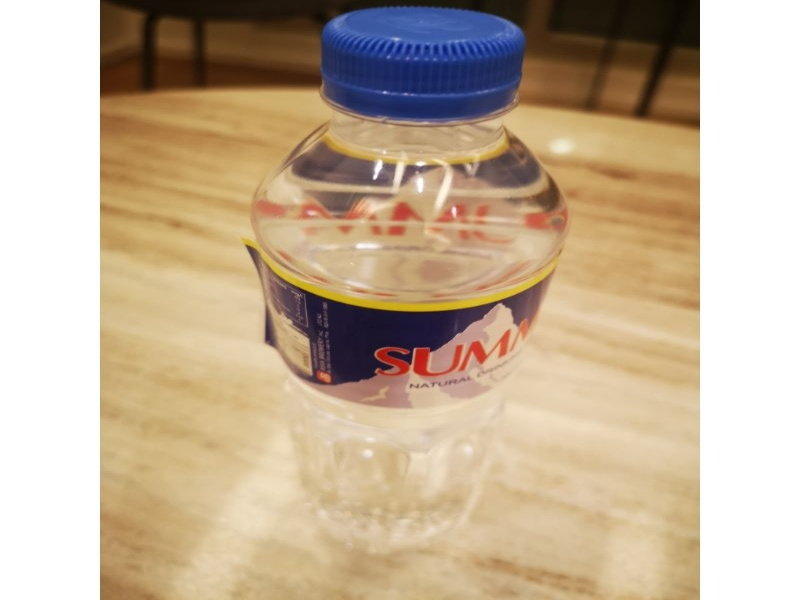PET #1: (249, 7, 567, 551)
